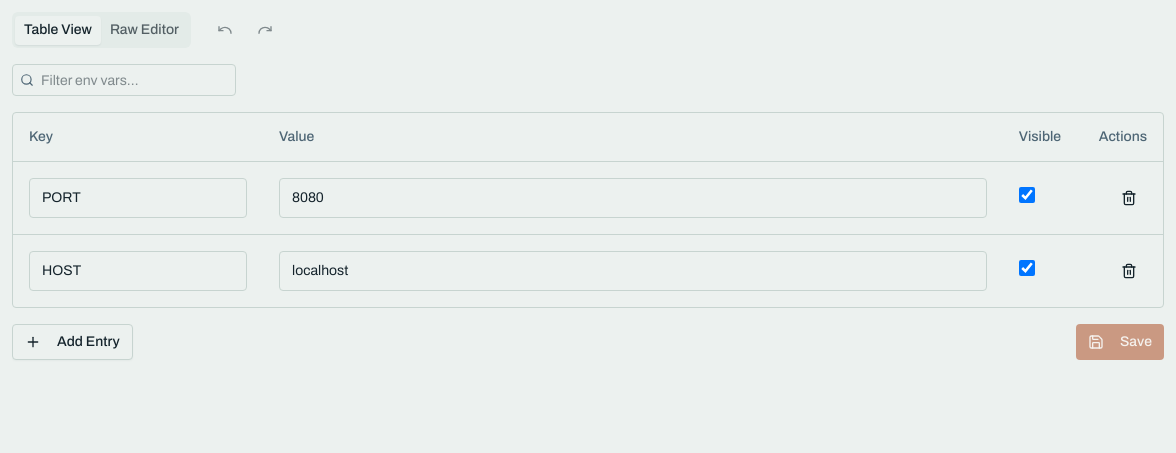
Test case: EnvEditor entry editing › Add Entry appends a blank row and enables Save
Expected: the button "Save" is disabled, [1076,324,1164,360]
Click the button "Add Entry": (72, 342) [12,324,133,360]
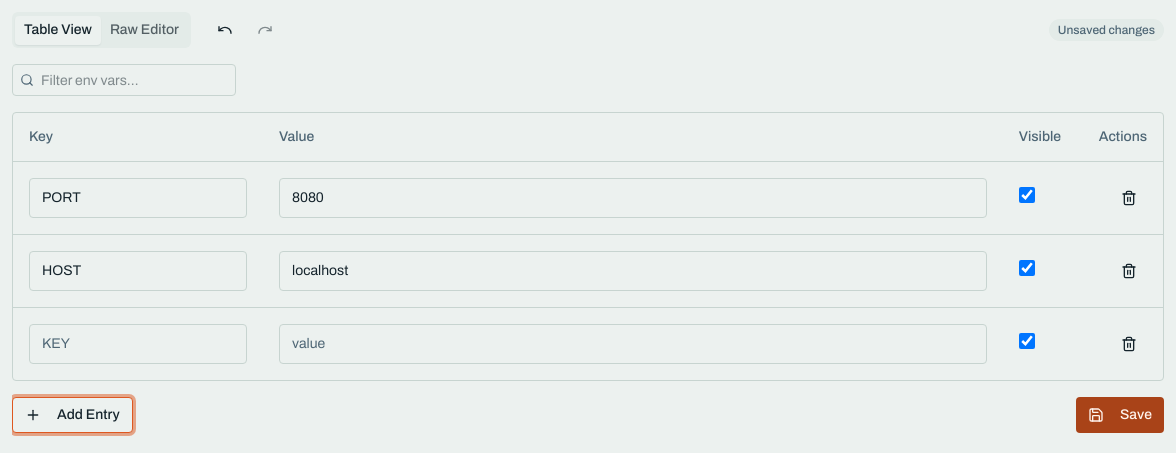
Expected: the number of fields named "Environment variable key" is 6
Expected: the button "Save" is enabled, [1076,396,1164,432]
